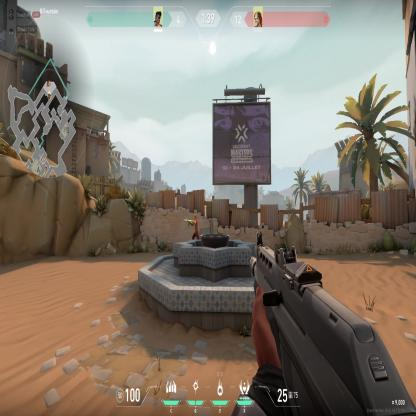enemy: (188, 212, 200, 240)
